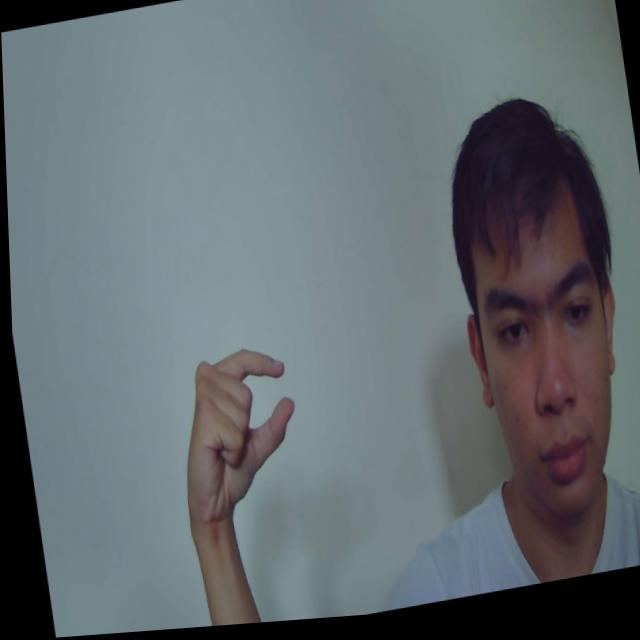G: (163, 341, 306, 528)
